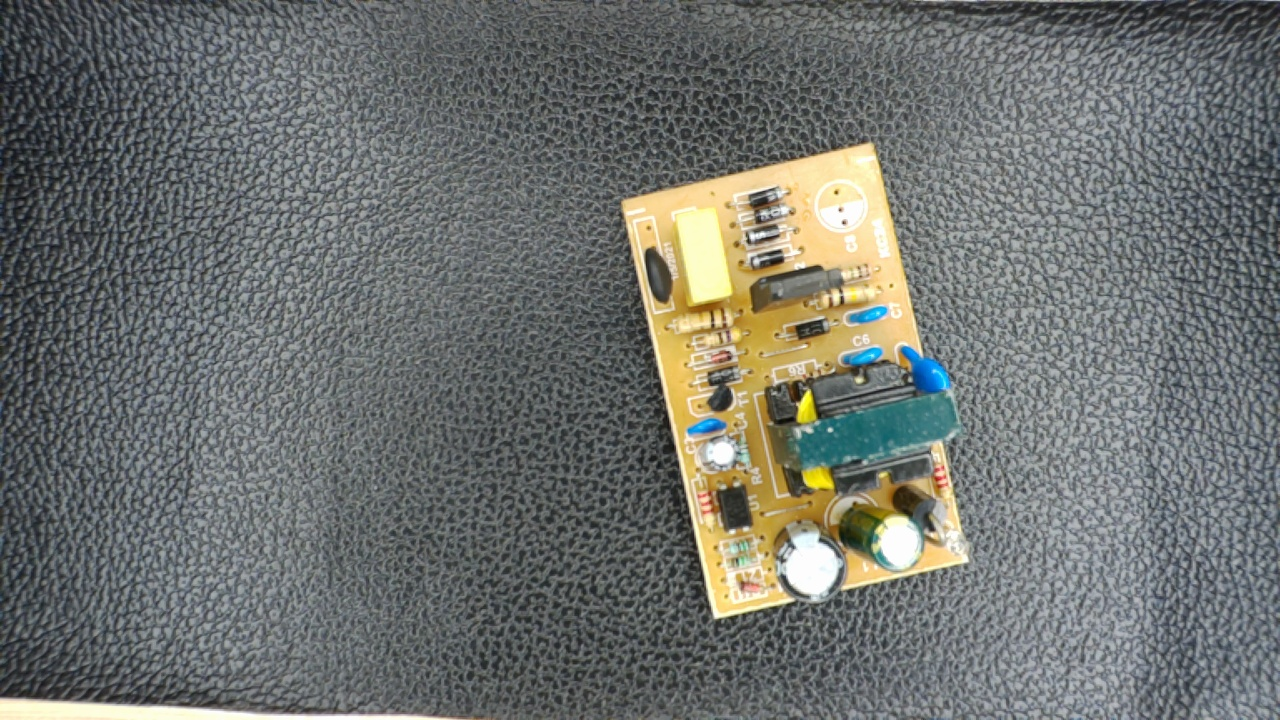fuse: (636, 236, 680, 311)
mov: (890, 339, 953, 398)
optocoupler: (710, 479, 762, 537)
